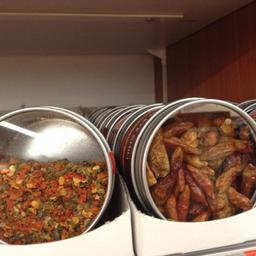spices: (130, 98, 254, 224), (0, 106, 111, 244)
